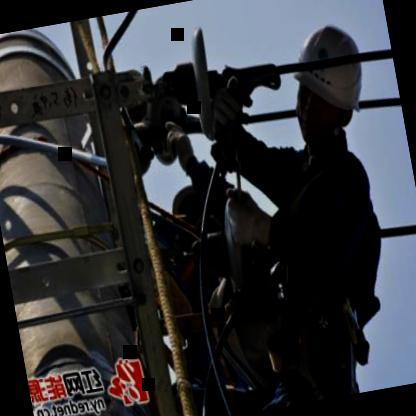helmet: (276, 16, 372, 148)
